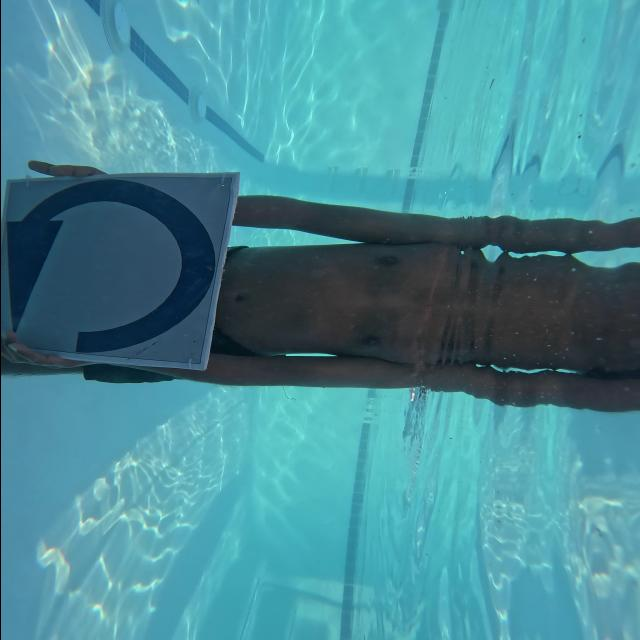blue_side: (0, 172, 221, 368)
